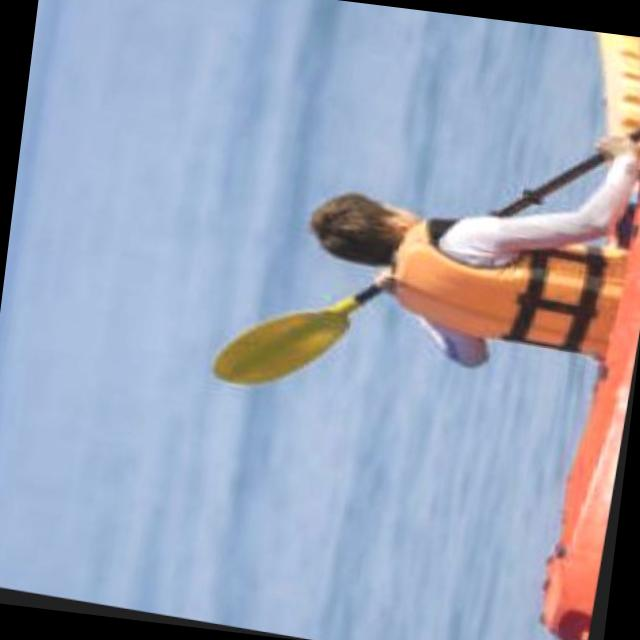kayak: (549, 179, 640, 640), (218, 291, 368, 384), (597, 32, 640, 141)
